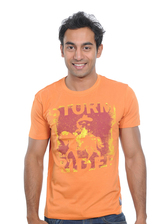clothoes: (29, 74, 143, 218)
